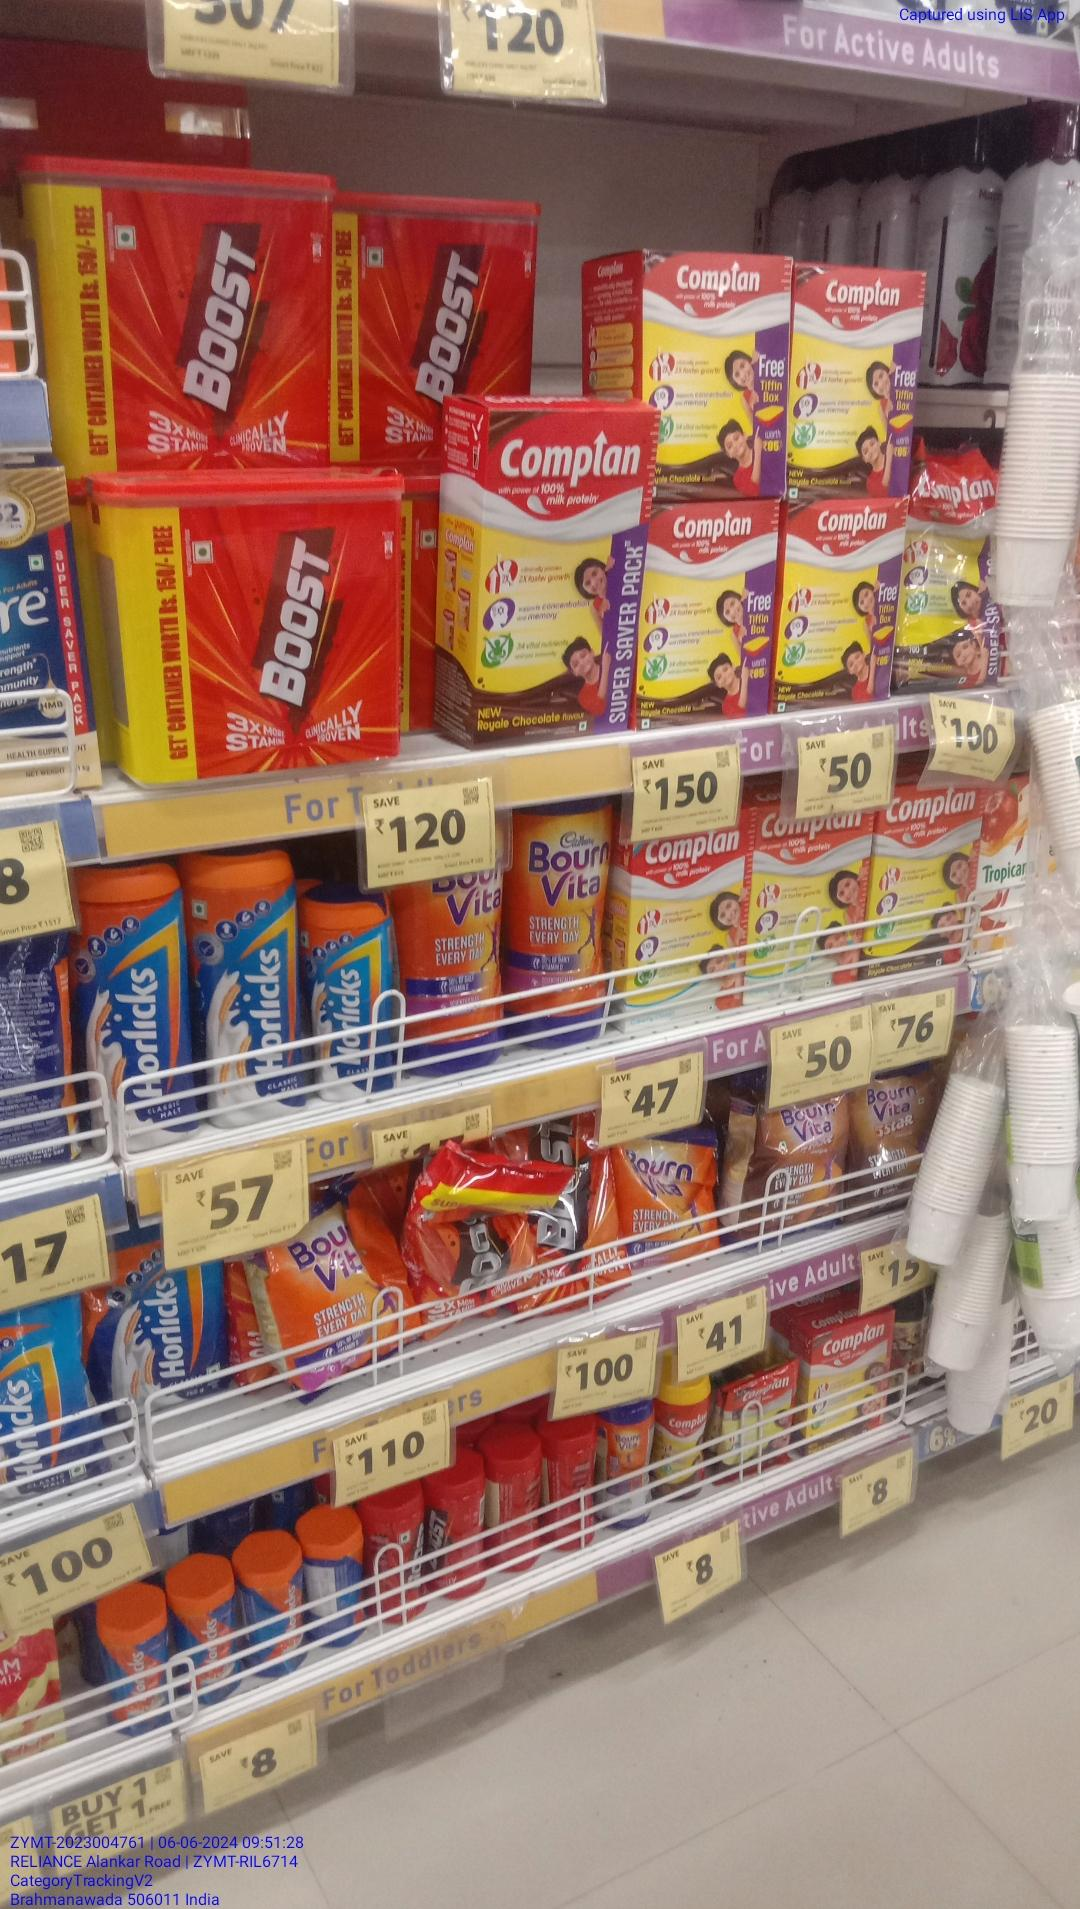BOURN_VITA_1_KG_JAR: (512, 801, 604, 1046), (412, 877, 498, 1069)
BOURN_VITA_FIVE_STAR_MAGIC_750_G_POUCH: (737, 1097, 843, 1239), (858, 1084, 915, 1209)
COMPLAN_CHOCOLATE_1_KG_PACK: (481, 408, 638, 742)
COMPLAN_CHOCOLATE_200_GMS_PACK: (814, 1335, 887, 1434)
COMPLAN_CHOCOLATE_500_GMS_PACK: (650, 253, 789, 501), (793, 266, 911, 500), (649, 505, 772, 720), (784, 503, 894, 705), (872, 802, 973, 977)
COMPLAN_CREAMY_CLASSIC_500_G_PACK: (750, 817, 864, 995), (629, 840, 744, 1014)
HORLICK_CLASSIC_MALT_500_G_JAR: (309, 902, 396, 1096)
